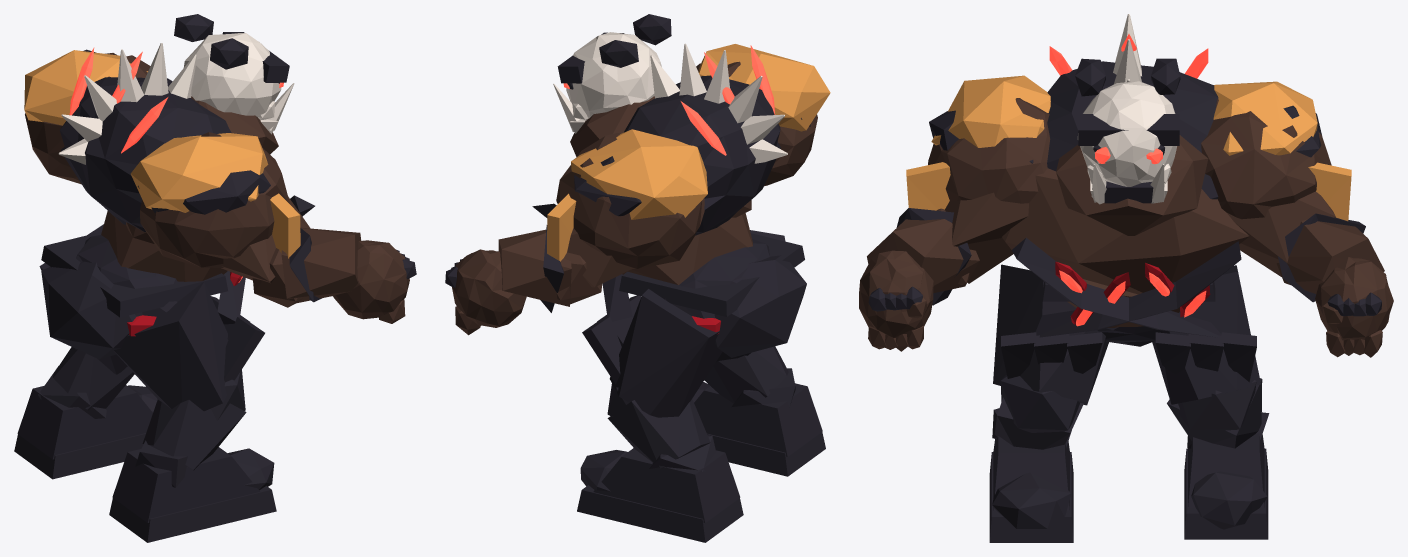
The picture shows the model from 3 angles, left to right: view 1: azimuth 30°, elevation 25°; view 2: azimuth 150°, elevation 25°; view 3: azimuth 270°, elevation 25°; orthographic projection. The views are drawn at different scales.
Parts seen in each view (by area): view 1: torso__alpha, armR__alpha, footR__alpha, hip__alpha, footL__alpha, legR__alpha, head__alpha, armL__alpha, foreArmR__alpha, shinR__alpha, handR__alpha, shinL__alpha; view 2: torso__alpha, armL__alpha, footL__alpha, hip__alpha, legL__alpha, footR__alpha, head__alpha, armR__alpha, foreArmL__alpha, handL__alpha, shinL__alpha, shinR__alpha; view 3: torso__alpha, armR__alpha, armL__alpha, head__alpha, footL__alpha, footR__alpha, legR__alpha, handR__alpha, handL__alpha, legL__alpha, foreArmL__alpha, foreArmR__alpha (+3 smaller).
Boxes of the visible parts, box(x1,y1,x2,y2) form: torso__alpha: box(58, 43, 314, 382); armR__alpha: box(130, 132, 310, 283); footR__alpha: box(109, 440, 276, 542); hip__alpha: box(41, 232, 227, 359); footL__alpha: box(14, 366, 157, 479); legR__alpha: box(113, 282, 228, 411); head__alpha: box(174, 14, 294, 134); armL__alpha: box(24, 49, 150, 184); foreArmR__alpha: box(252, 227, 361, 307); shinR__alpha: box(142, 370, 246, 470); handR__alpha: box(333, 240, 416, 323); shinL__alpha: box(53, 347, 134, 410); torso__alpha: box(532, 43, 787, 384); armL__alpha: box(547, 129, 707, 287); footL__alpha: box(577, 435, 743, 542); hip__alpha: box(619, 233, 806, 357); legL__alpha: box(609, 289, 722, 417); footR__alpha: box(692, 368, 825, 476); head__alpha: box(553, 14, 671, 133); armR__alpha: box(696, 44, 830, 186); foreArmL__alpha: box(498, 225, 602, 312); handL__alpha: box(445, 249, 526, 335); shinL__alpha: box(607, 384, 710, 469); shinR__alpha: box(704, 346, 788, 403); torso__alpha: box(1001, 14, 1256, 382); armR__alpha: box(906, 75, 1050, 283); armL__alpha: box(1201, 81, 1351, 276); head__alpha: box(1075, 58, 1180, 204); footL__alpha: box(1184, 412, 1269, 539); footR__alpha: box(989, 408, 1073, 542); legR__alpha: box(993, 264, 1108, 405); handR__alpha: box(859, 250, 933, 351); handL__alpha: box(1315, 257, 1393, 357); legL__alpha: box(1152, 265, 1260, 404); foreArmL__alpha: box(1276, 213, 1384, 302); foreArmR__alpha: box(867, 208, 979, 305).
Bounding box in the file's own units: 1.42 × 2.4 × 2.42.
